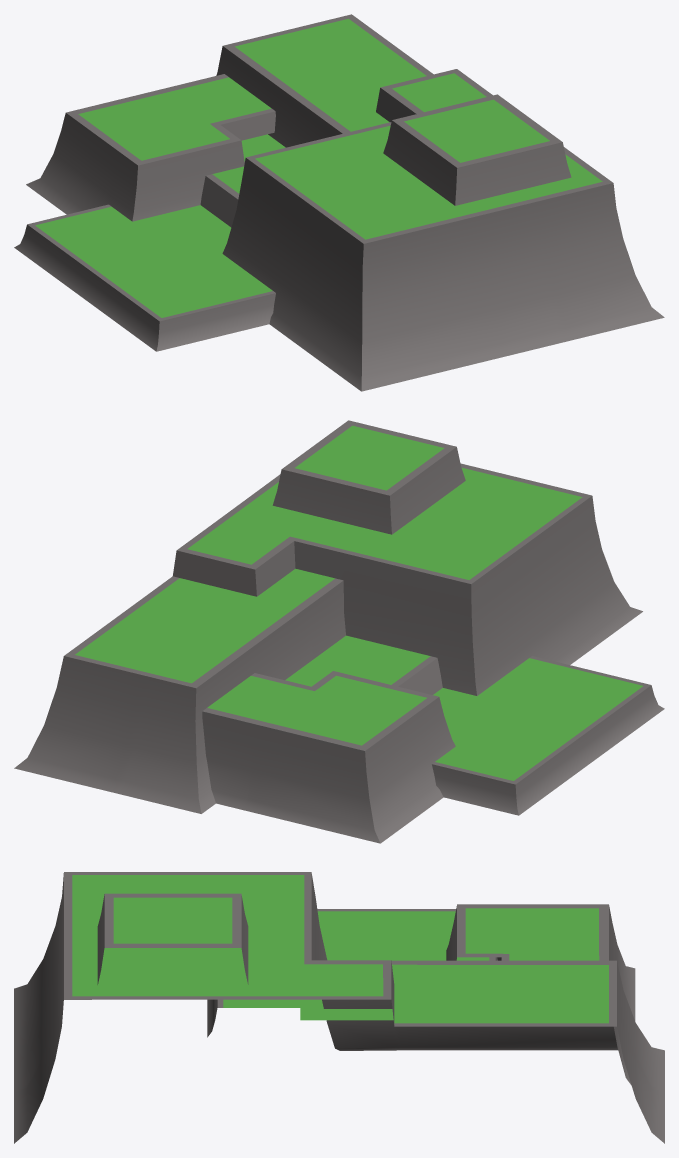
File: Base_Ground_8.fbx
3 renders of one model, top to bottom at view 1: azimuth 30°, elevation 25°; view 2: azimuth 150°, elevation 25°; view 3: azimuth 270°, elevation 25°, orthographic. The views are drawn at different scales.
Parts seen in each view (by area): view 1: pCube7; view 2: pCube7; view 3: pCube7.
Part boxes in pixels (box(x1,y1,x2,y2)): pCube7: box(14, 14, 664, 391); pCube7: box(14, 420, 664, 843); pCube7: box(14, 872, 664, 1143).
Size of the model in its own units: 443 by 161 by 572.
